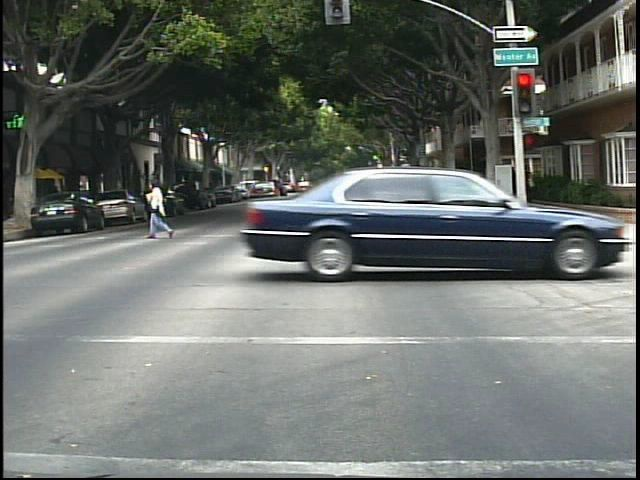person: (139, 172, 181, 243), (372, 172, 397, 217)
